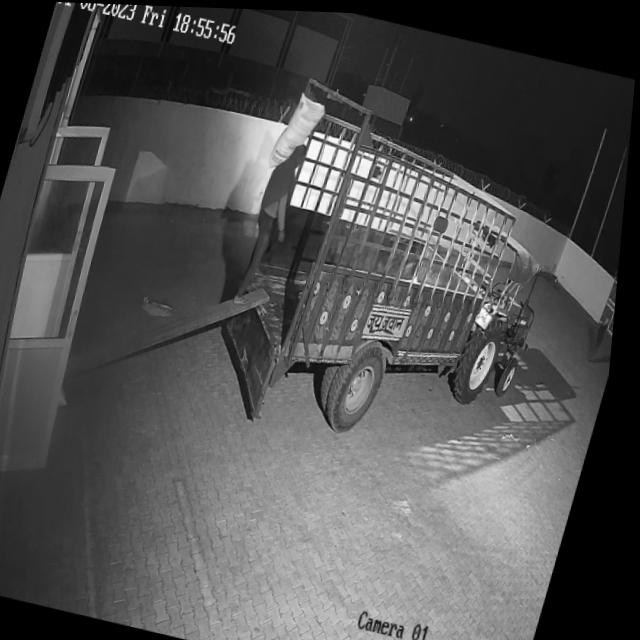sack: (270, 86, 330, 174)
